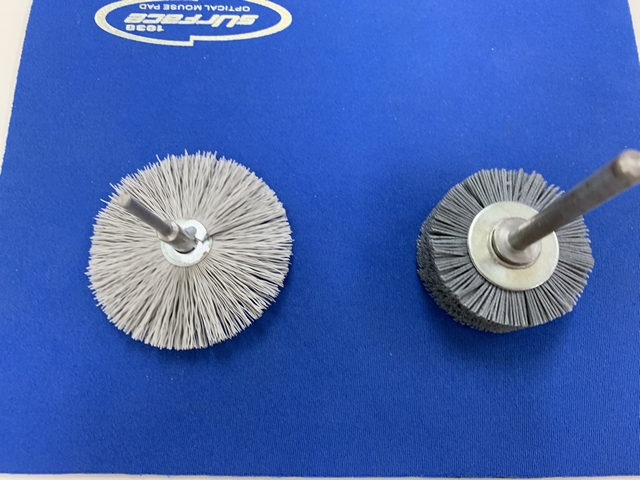TOOL: (86, 148, 295, 349), (90, 146, 259, 348), (126, 150, 287, 347)
Wheel Brush: (409, 128, 640, 354), (415, 124, 595, 351), (443, 130, 604, 352)
